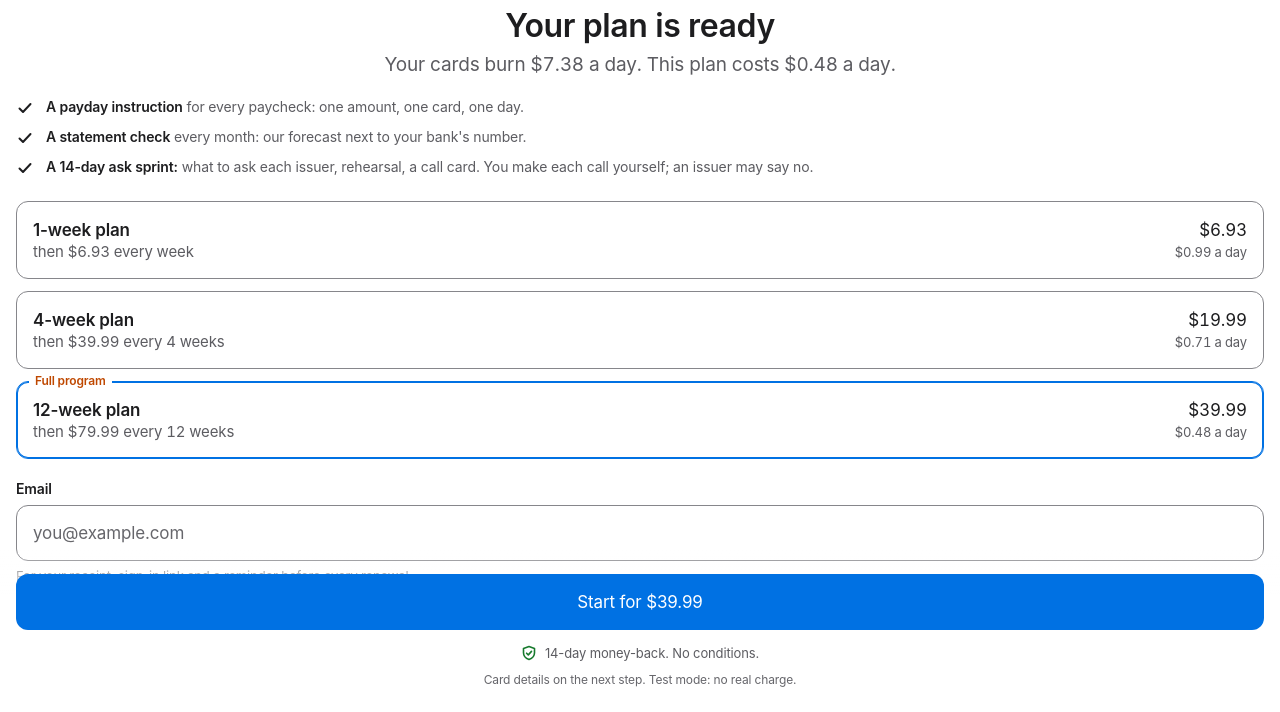
Test case: PaywallForm › refuses to start without consent and highlights the box
Type "maya@example.com" into the field with test id "plan-email" at [640, 533], box [16,505,1264,561]
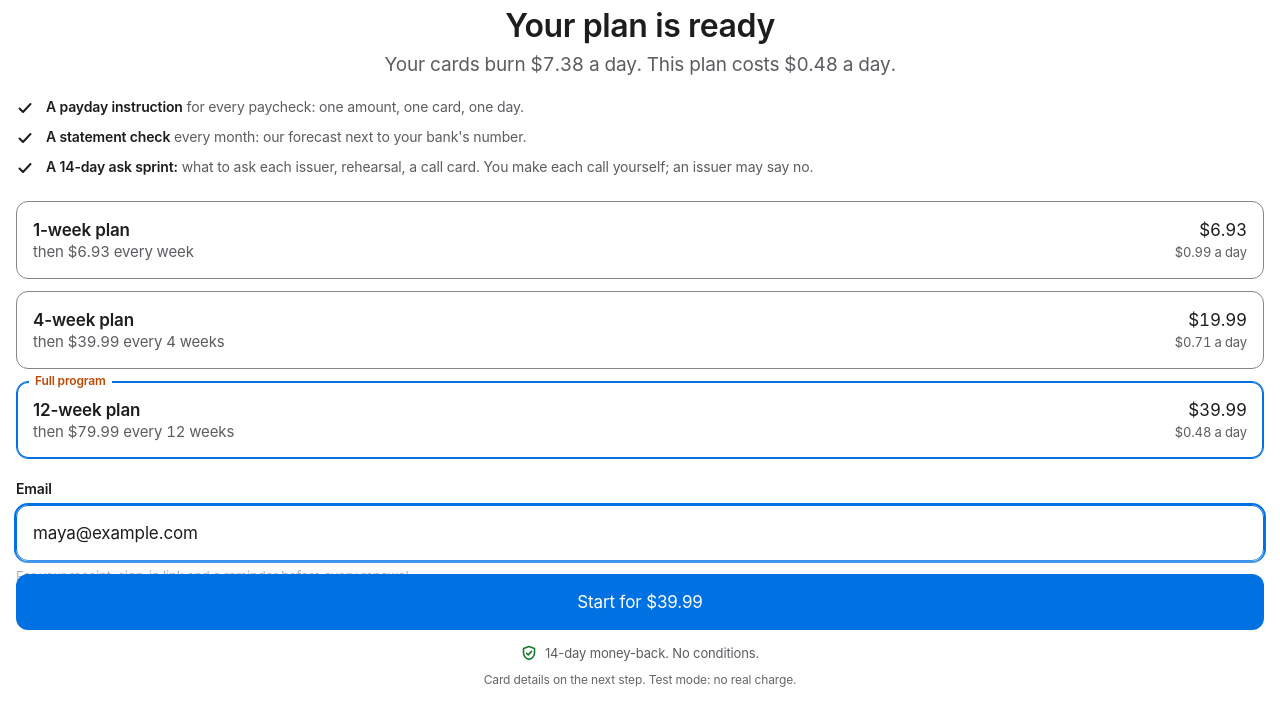
Click the button with test id "plan-cta" at [640, 602], box [16,574,1264,630]
(page scrolled)
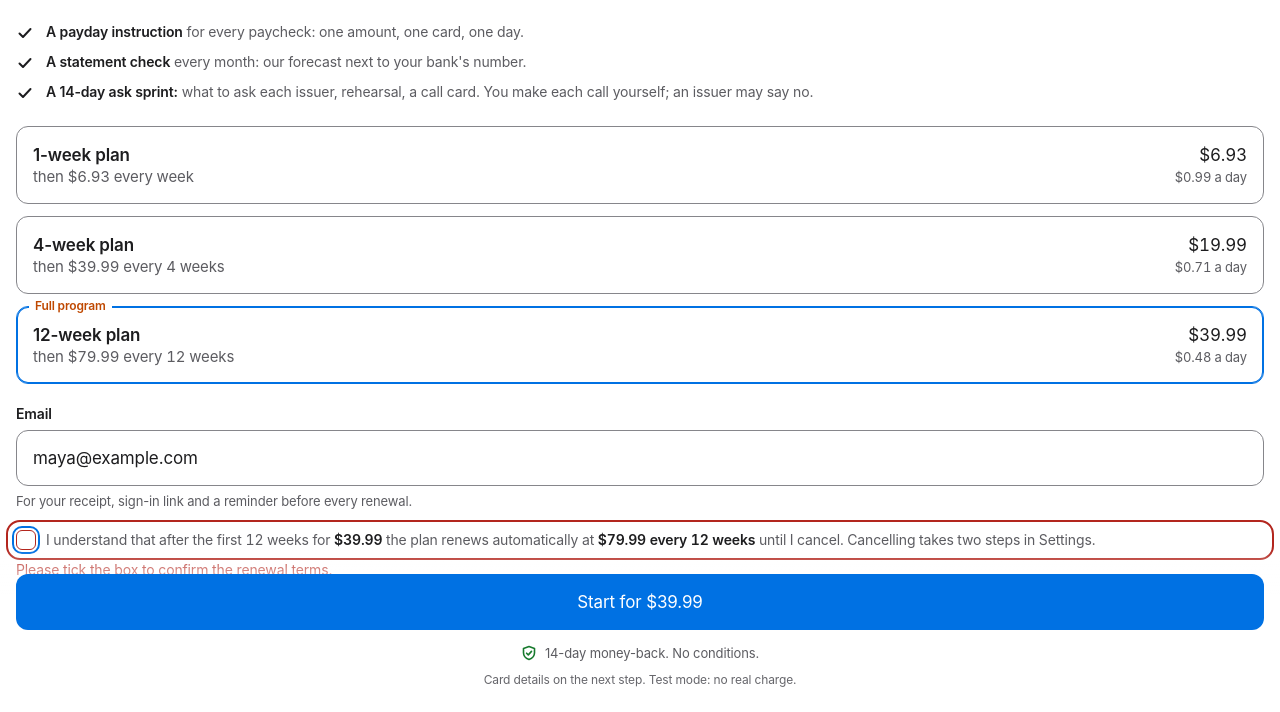
Expected: the message reads "Please tick the box to confirm the renewal terms.", [16,561,332,578]
